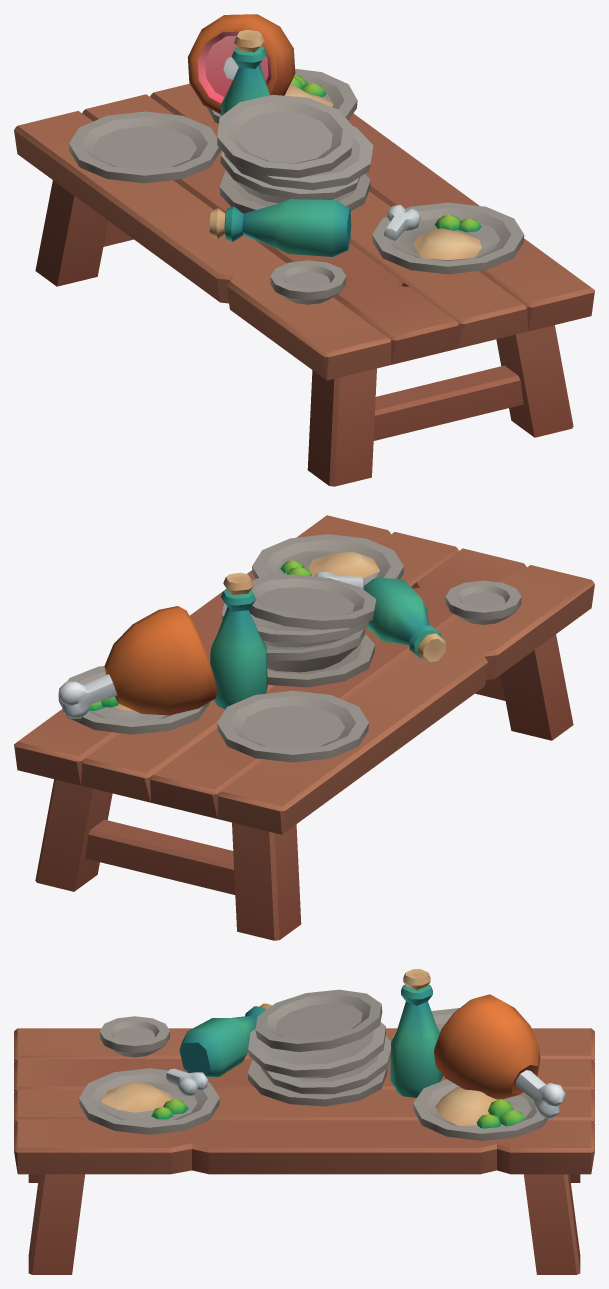
Rendered from table_long_decorated_A.obj.
The picture shows the model from 3 angles, top to bottom: view 1: azimuth 30°, elevation 25°; view 2: azimuth 150°, elevation 25°; view 3: azimuth 270°, elevation 25°; orthographic projection. The views are drawn at different scales.
Parts seen in each view (by area): view 1: table_long_decorated_A; view 2: table_long_decorated_A; view 3: table_long_decorated_A.
Part boxes in pixels (x1,y1,x2,y2): table_long_decorated_A: (14, 14, 594, 486); table_long_decorated_A: (14, 515, 594, 940); table_long_decorated_A: (14, 969, 594, 1274).
Size of the model in its own units: 2.06 by 1.89 by 4.
Materials: 1 (1 with a texture image).
